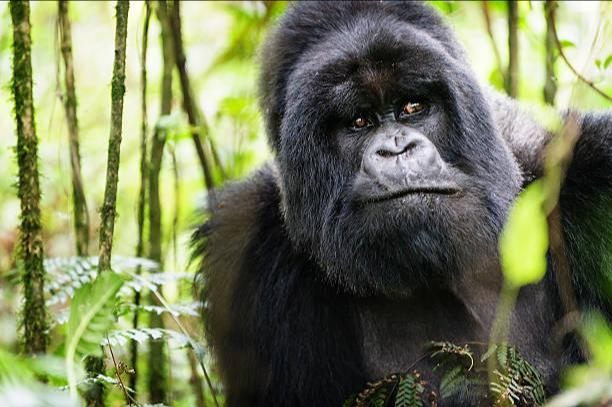goriile_montagne: (202, 0, 606, 392)
